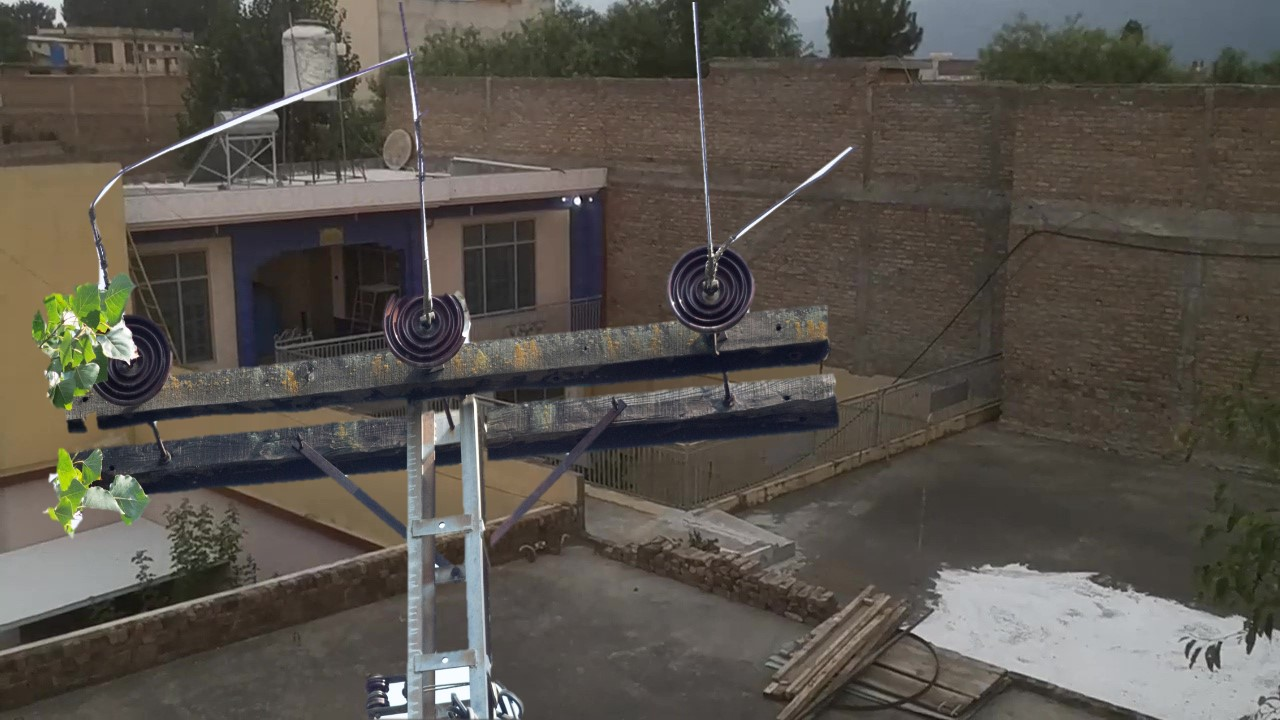defect_disc: (376, 284, 477, 369)
insulator_disc: (663, 242, 763, 339), (98, 313, 181, 407)
